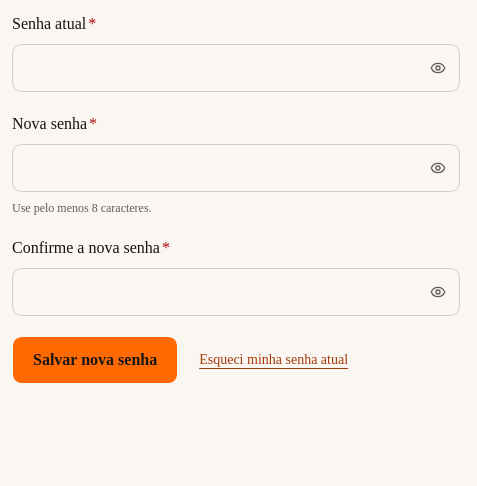
Test case: changes the password and revokes the other sessions
In the password field labelled "Senha atual*": [236, 68] box [12, 44, 460, 92], type "senha-antiga"
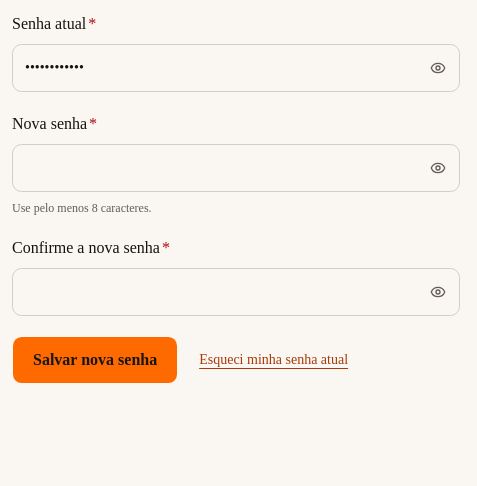
In the password field labelled "Nova senha*": [236, 168] box [12, 144, 460, 192], type "senha-nova-123"
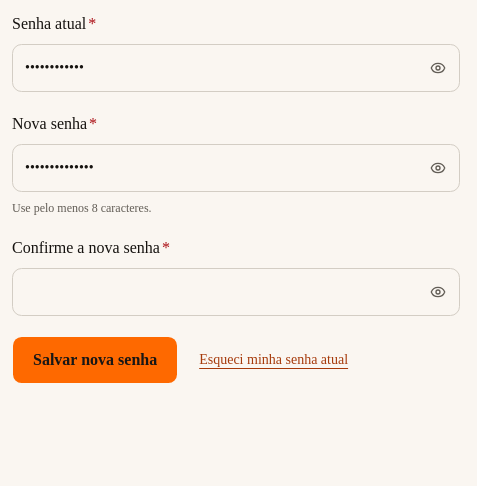
In the password field labelled "Confirme a nova senha*": [236, 292] box [12, 268, 460, 316], type "senha-nova-123"
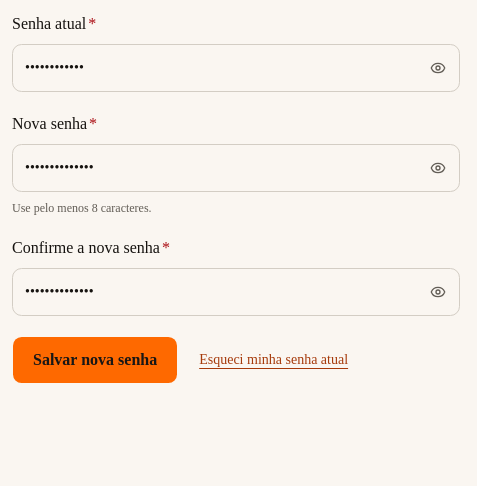
Click the button "Salvar nova senha": [95, 360] box [12, 336, 178, 384]
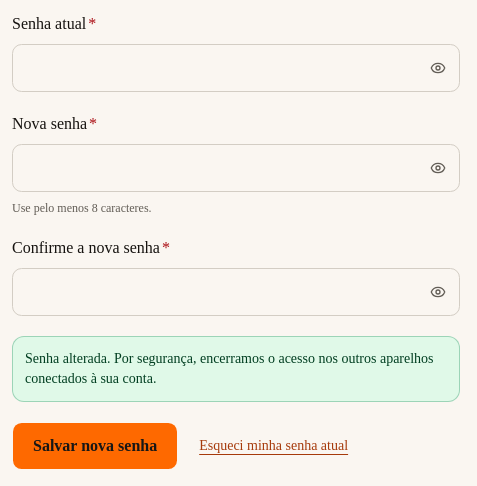
Now the message shows "Senha alterada.", box [25, 351, 434, 386]
Now the password field labelled "Senha atual*" is empty, box [12, 44, 460, 92]
